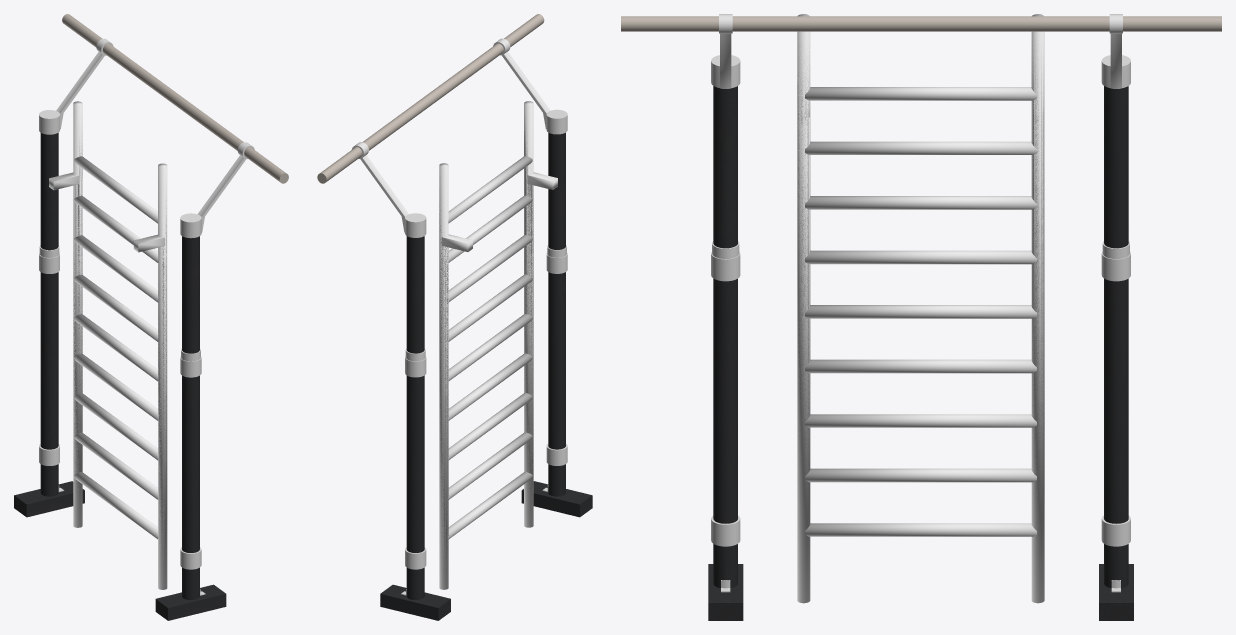
Rendered from ribbe.fbx.
3 renders of one model, left to right at view 1: azimuth 30°, elevation 25°; view 2: azimuth 150°, elevation 25°; view 3: azimuth 270°, elevation 25°, orthographic. The views are drawn at different scales.
Visible parts, largest first — view 1: Ribben, Cylinder.003, Cylinder.001, Cylinder.011, Cube, Cube.001, Cylinder.005, Cylinder.009, Cylinder.004, Cylinder.008, Cylinder.002; view 2: Ribben, Cylinder.003, Cylinder.001, Cylinder.011, Cube.001, Cube, Cylinder.009, Cylinder.005, Cylinder.008, Cylinder.004, Cylinder.002, Cylinder.007; view 3: Ribben, Cylinder.001, Cylinder.003, Cylinder.011, Cube, Cube.001, Cylinder.005, Cylinder.009, Cylinder.004, Cylinder.008.
Part boxes in pixels (box(x1,y1,x2,y2)): Ribben: box(49, 101, 167, 589); Cylinder.003: box(40, 132, 58, 496); Cylinder.001: box(182, 236, 199, 599); Cylinder.011: box(62, 14, 288, 183); Cube: box(155, 584, 226, 620); Cube.001: box(14, 481, 84, 517); Cylinder.005: box(180, 155, 246, 238); Cylinder.009: box(39, 52, 104, 134); Cylinder.004: box(180, 348, 201, 377); Cylinder.008: box(39, 245, 59, 273); Cylinder.002: box(180, 547, 201, 569); Ribben: box(439, 101, 557, 589); Cylinder.003: box(406, 236, 424, 599); Cylinder.001: box(548, 132, 565, 496); Cylinder.011: box(317, 14, 544, 183); Cube.001: box(380, 584, 450, 620); Cube: box(521, 481, 592, 517); Cylinder.009: box(360, 155, 426, 237); Cylinder.005: box(502, 51, 567, 134); Cylinder.008: box(405, 348, 426, 377); Cylinder.004: box(546, 245, 567, 273); Cylinder.002: box(546, 443, 567, 465); Cylinder.007: box(405, 547, 426, 569); Ribben: box(797, 14, 1044, 603); Cylinder.001: box(713, 86, 737, 588); Cylinder.003: box(1104, 86, 1128, 588); Cylinder.011: box(621, 16, 1221, 31); Cube: box(708, 564, 743, 620); Cube.001: box(1099, 564, 1133, 620); Cylinder.005: box(711, 33, 740, 88); Cylinder.009: box(1101, 33, 1130, 88); Cylinder.004: box(711, 241, 740, 281); Cylinder.008: box(1101, 241, 1130, 281).
Size of the model in its own units: 48.13 by 229 by 200.
